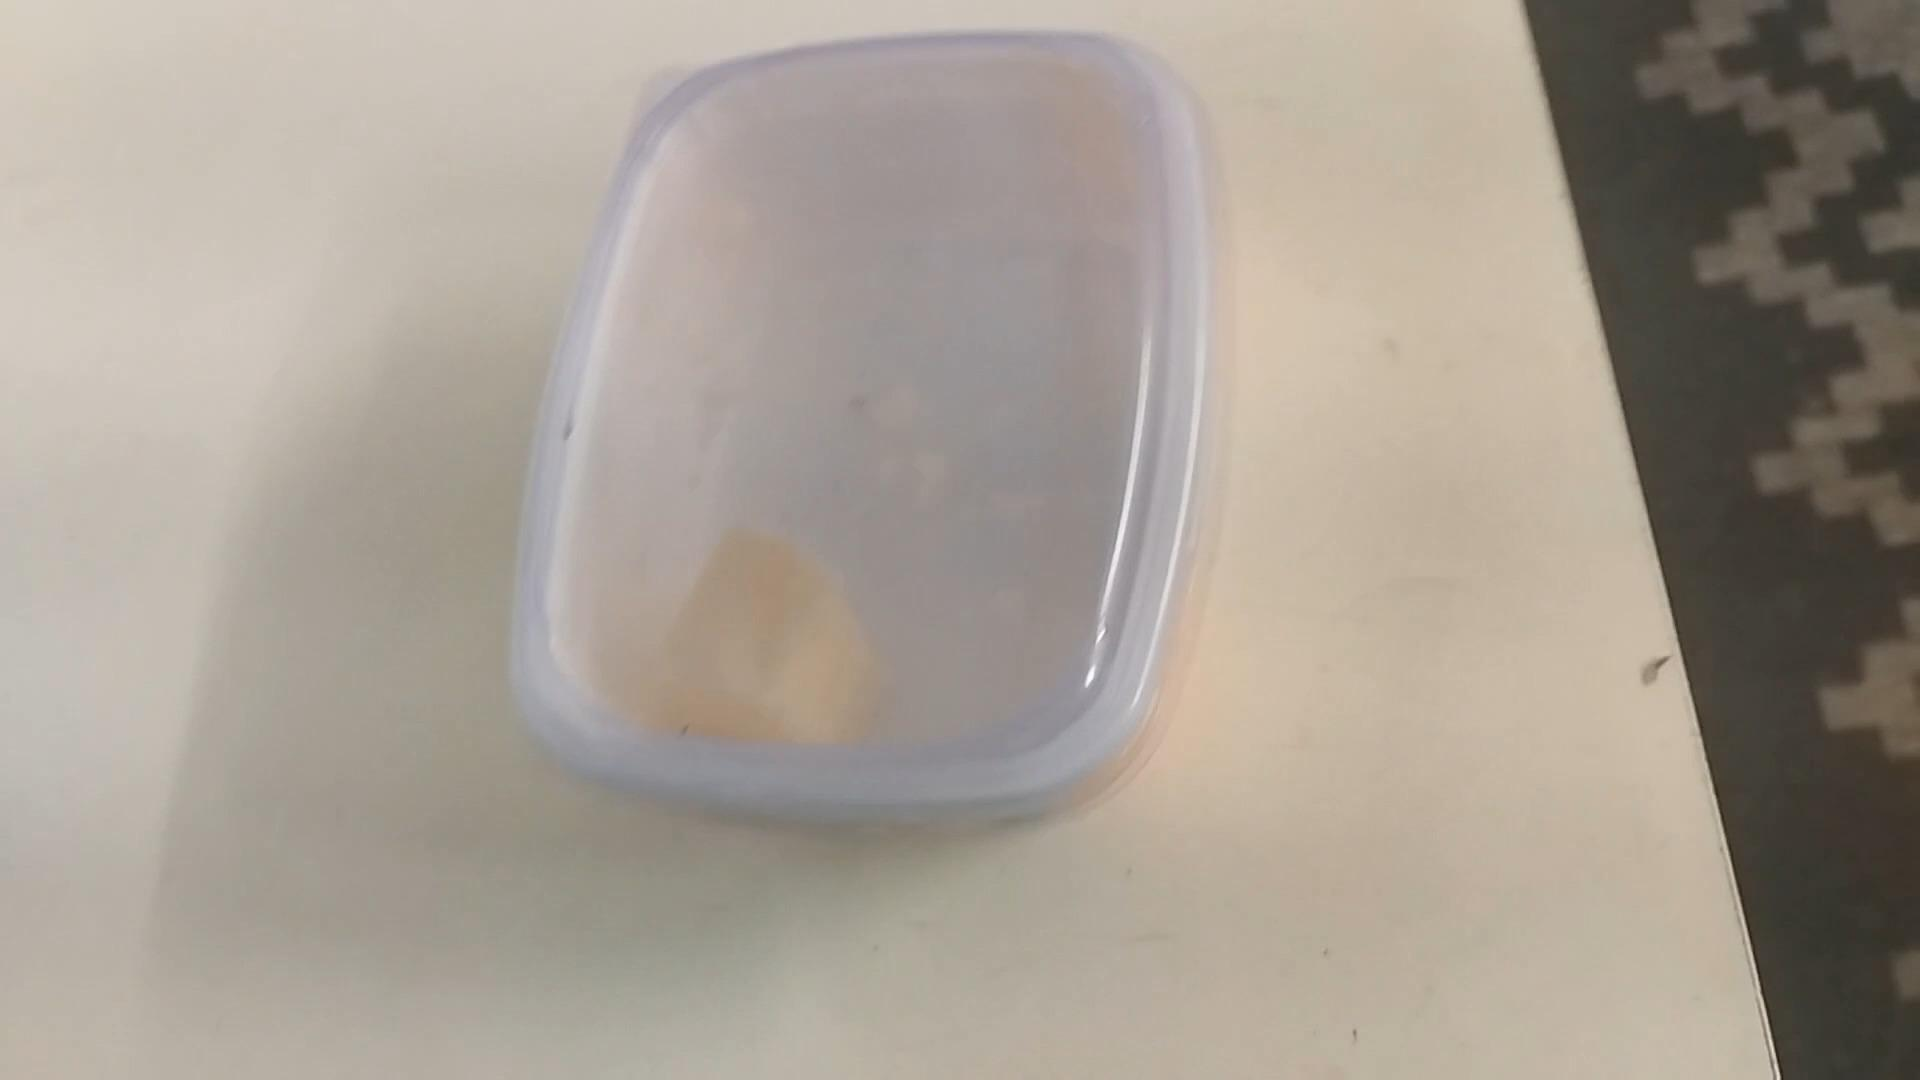butter: (495, 13, 1237, 844)
